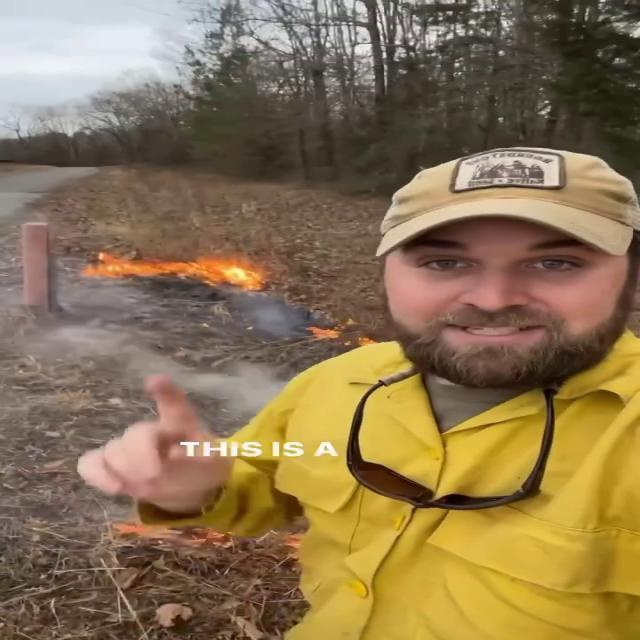Fire: (77, 246, 273, 292)
